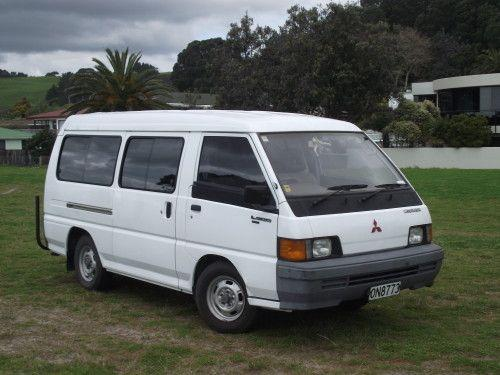car: (29, 101, 446, 332)
